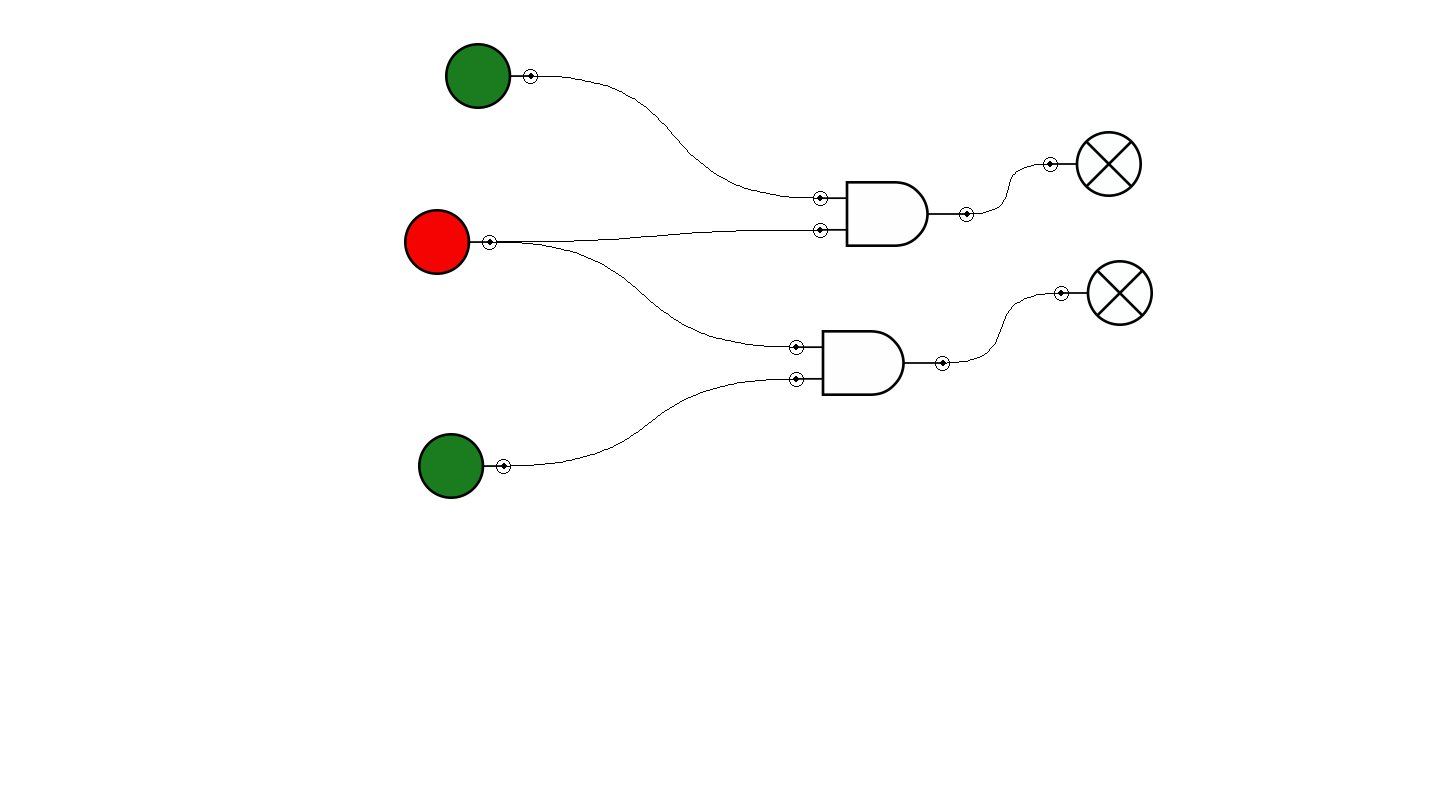and: (789, 330, 950, 396), (813, 181, 974, 247)
bulb: (1043, 131, 1142, 197), (1054, 260, 1153, 326)
switch_False: (404, 209, 497, 275)
switch_True: (445, 43, 538, 109), (418, 433, 511, 499)
